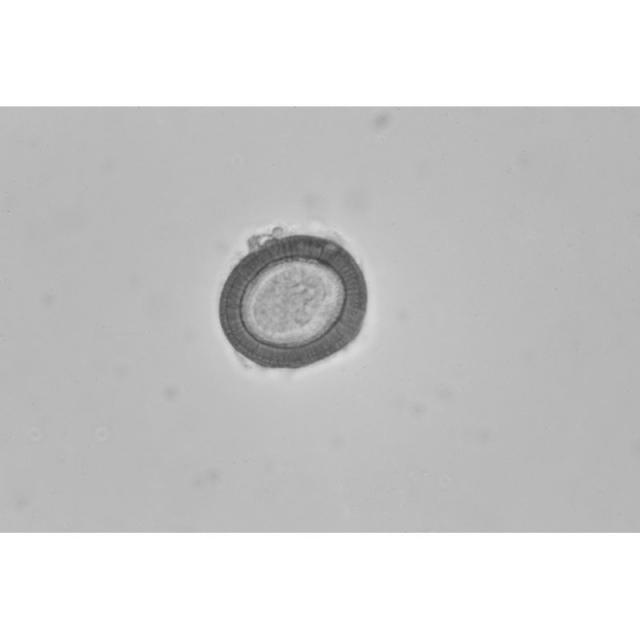Taenia Sp: (206, 219, 370, 378)
